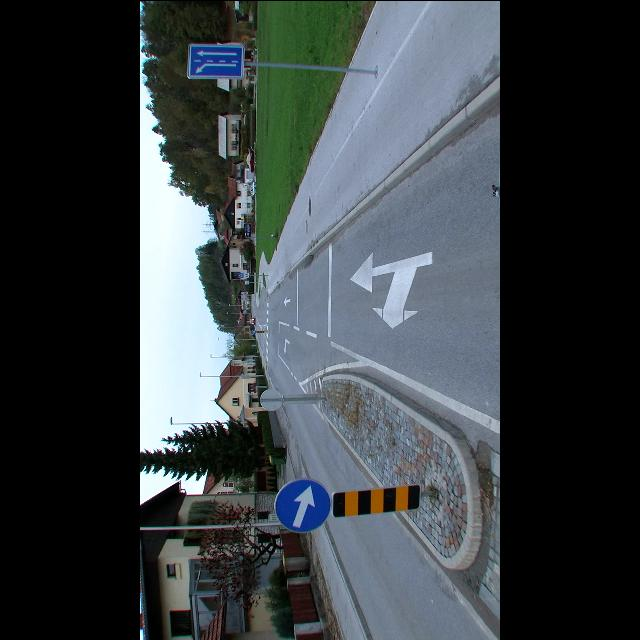Rectangle: (186, 44, 244, 78), (239, 270, 245, 276)
Round: (274, 478, 332, 530), (252, 329, 258, 333)
